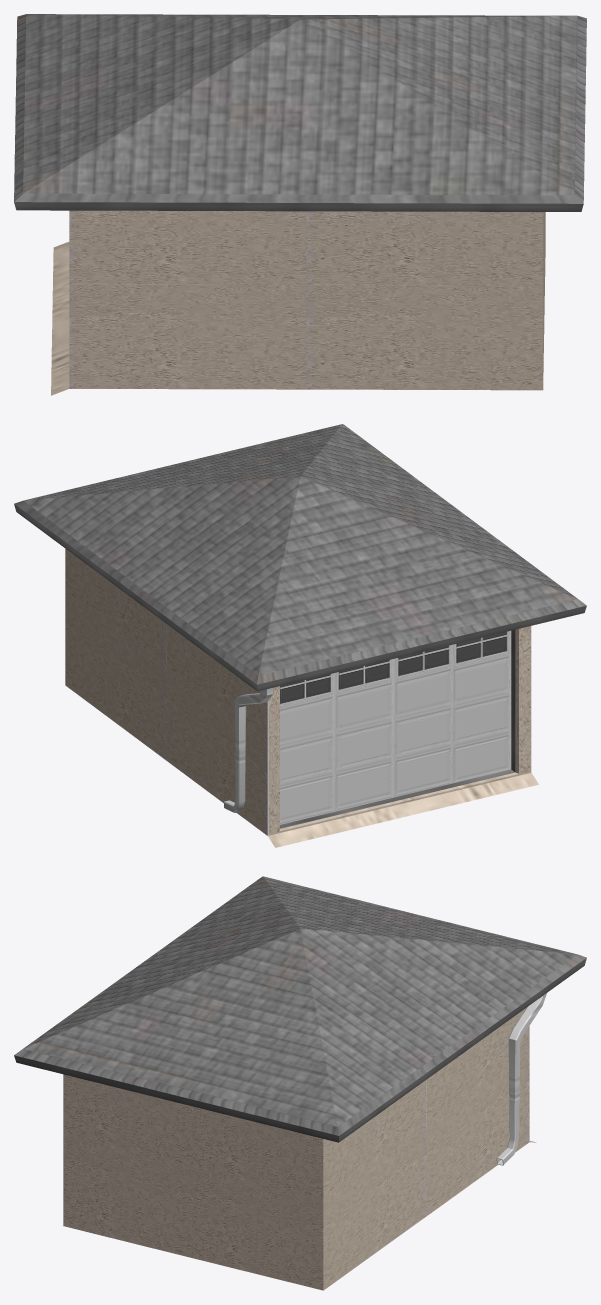
File: garage1.002_garage1_0.001_lev2.glb
3 views of the same model, one above another, from view 1: azimuth 30°, elevation 25°; view 2: azimuth 150°, elevation 25°; view 3: azimuth 270°, elevation 25° (orthographic). The views are drawn at different scales.
Visible parts, largest first — view 1: garage1.002_garage1_0.001_lev2; view 2: garage1.002_garage1_0.001_lev2; view 3: garage1.002_garage1_0.001_lev2.
Boxes of the visible parts, bbox=[...] form: garage1.002_garage1_0.001_lev2: bbox=[14, 14, 586, 395]; garage1.002_garage1_0.001_lev2: bbox=[14, 424, 586, 847]; garage1.002_garage1_0.001_lev2: bbox=[14, 876, 586, 1290].
Size of the model in its own units: 13.07 by 6.11 by 12.21.
1 material, 1 textured.
